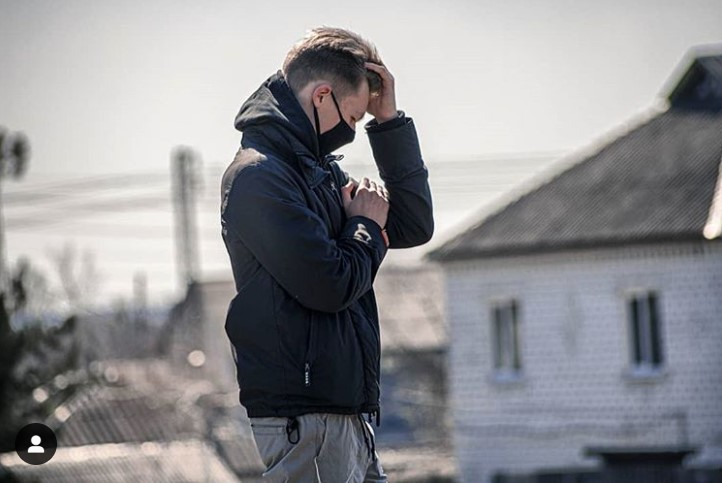face_with_mask: (275, 32, 381, 158)
